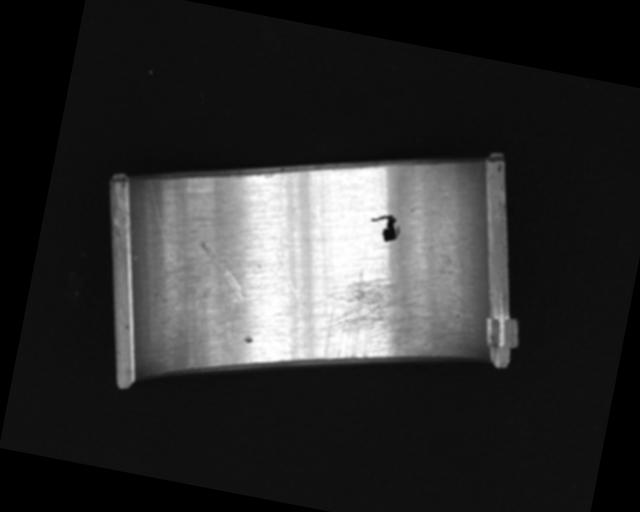blot: (366, 211, 402, 244)
bruise: (240, 333, 253, 345)
nick: (255, 169, 323, 299), (130, 176, 195, 276), (191, 241, 254, 299), (220, 292, 244, 351)
scratch: (310, 265, 452, 380)
